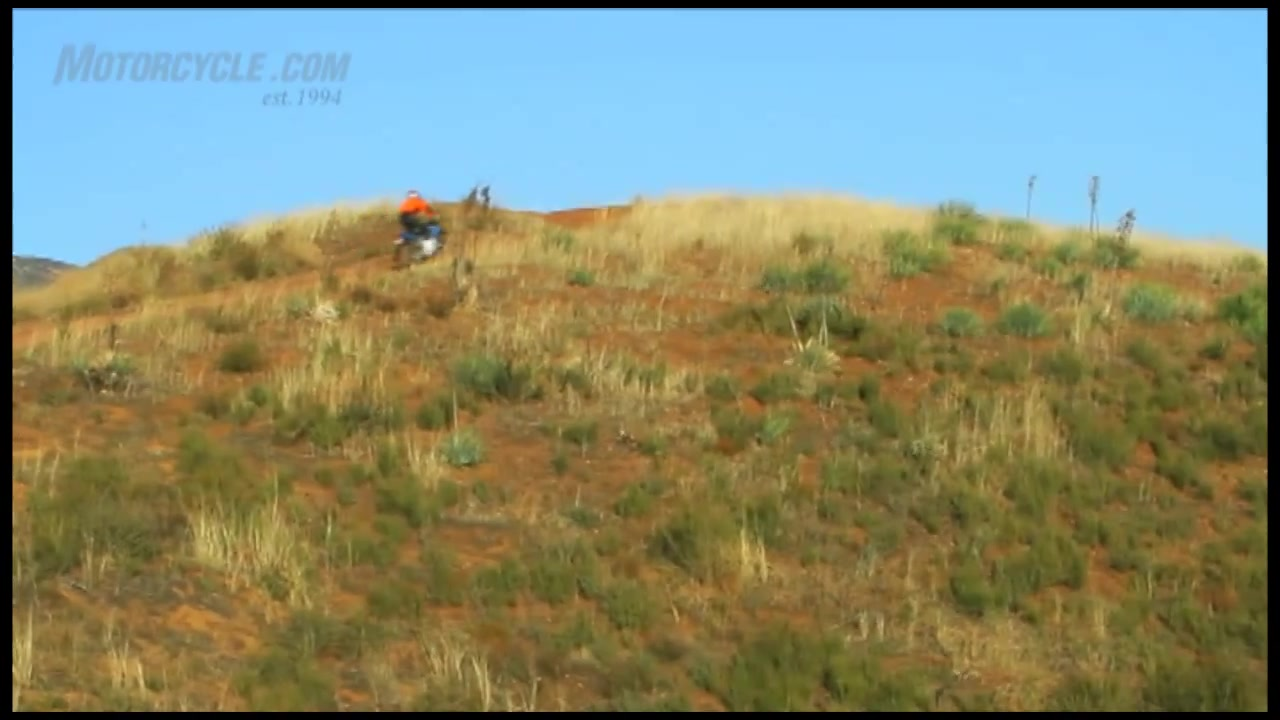motorbike: (380, 221, 454, 277)
